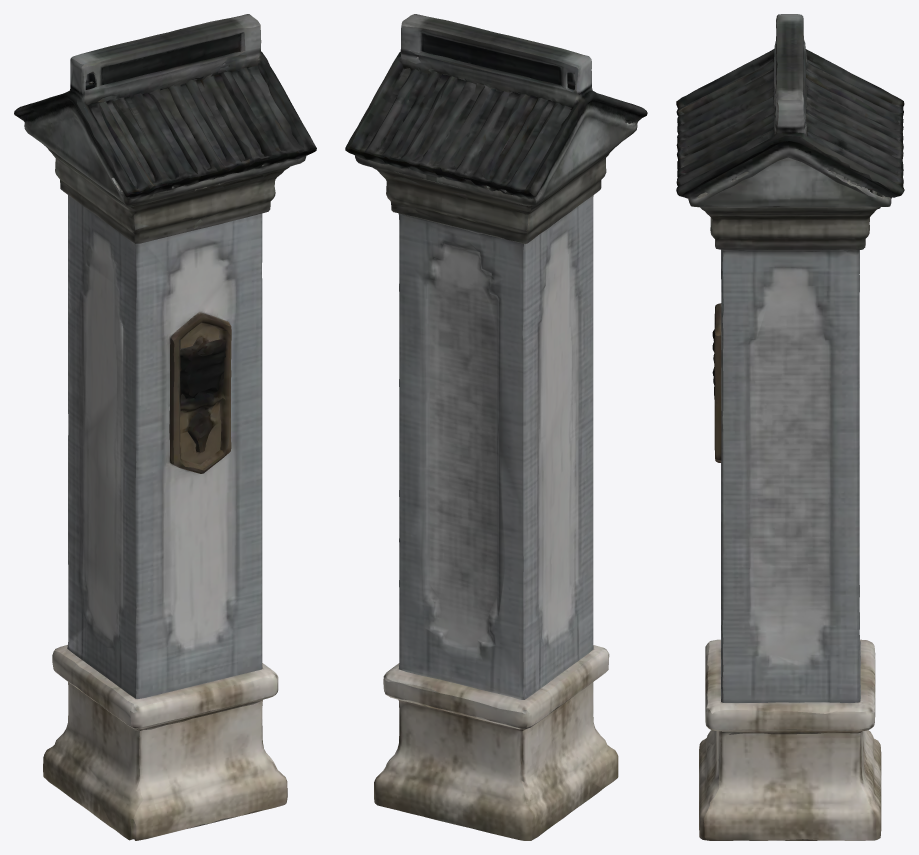
Rendered from wall-pillar.glb.
3 views of the same model, side by side, from view 1: azimuth 30°, elevation 25°; view 2: azimuth 150°, elevation 25°; view 3: azimuth 270°, elevation 25° (orthographic).
Parts seen in each view (by area): view 1: geometry_0; view 2: geometry_0; view 3: geometry_0.
Part boxes in pixels (x1,y1,x2,y2): geometry_0: (14, 14, 316, 840); geometry_0: (345, 14, 647, 840); geometry_0: (676, 14, 904, 840).
Bounding box in the file's own units: 0.2674 × 1 × 0.2782.
Materials: 1 (1 with a texture image).
